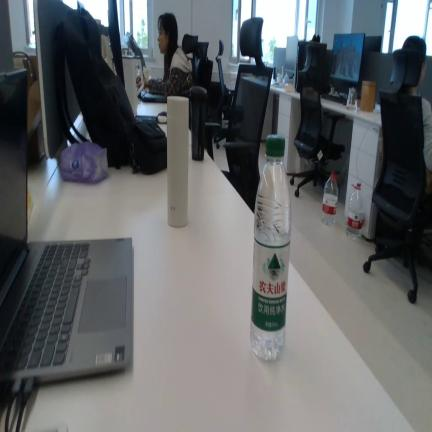bottle: (250, 134, 291, 361), (346, 182, 364, 239), (322, 172, 339, 226)
